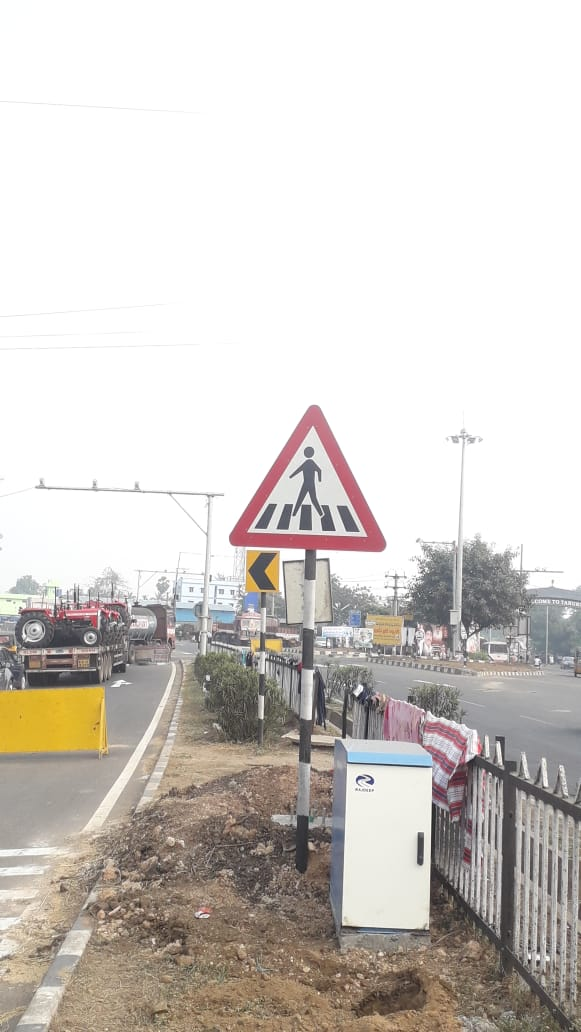pedestrian crossing: (227, 388, 398, 576)
